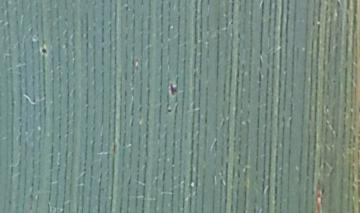tarspot: (165, 81, 183, 97), (37, 45, 51, 58), (164, 106, 177, 117)
